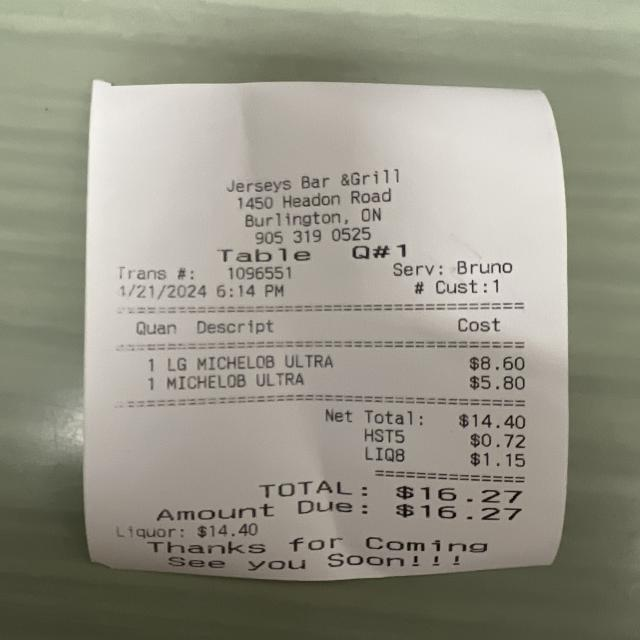item: (160, 352, 531, 376), (161, 372, 531, 394)
store_name: (224, 164, 406, 196)
total_amount: (254, 477, 529, 506)
transaction_date: (112, 278, 213, 304)
